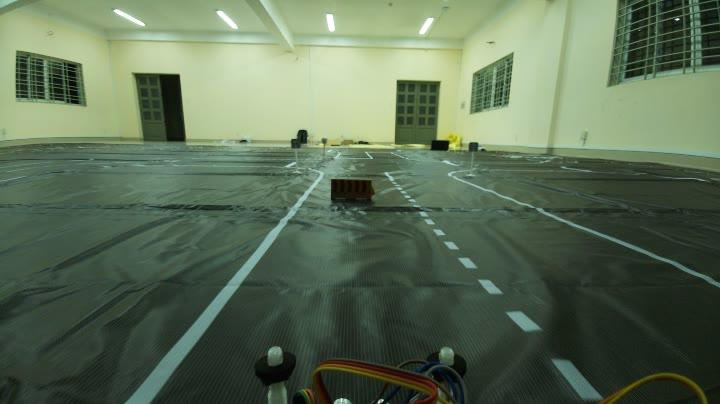roadblock: (323, 175, 382, 206)
